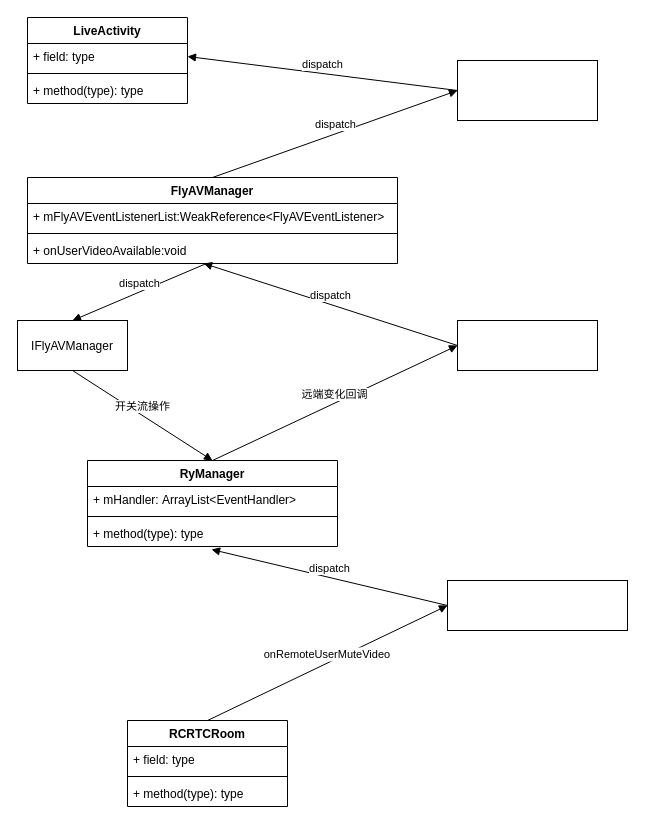
This 645x827 diagram has some shape labels left out. The shapes that lost their labels are listed below. From the top down, each one's centre as x and y in pixels, then its label:
the point at 527,90: FlyAVEventHandler onUserVideoAvailable
the point at 527,345: EventHandler onUserVideoAvailable
the point at 537,605: IRCRTCRoomEventsListener
